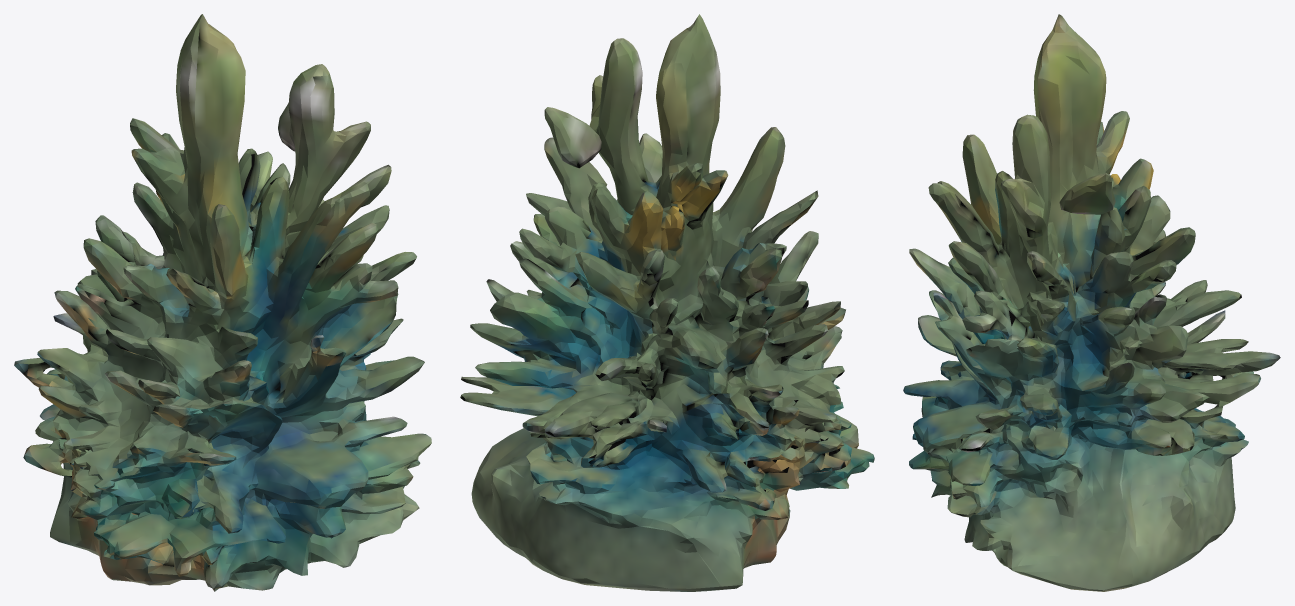
File: Plant12.glb
3 renders of one model, left to right at view 1: azimuth 30°, elevation 25°; view 2: azimuth 150°, elevation 25°; view 3: azimuth 270°, elevation 25°, orthographic. The views are drawn at different scales.
Parts seen in each view (by area): view 1: model.004_LOD0; view 2: model.004_LOD0; view 3: model.004_LOD0.
Part boxes in pixels (x1,y1,x2,y2): model.004_LOD0: [14, 14, 431, 591]; model.004_LOD0: [460, 14, 874, 591]; model.004_LOD0: [903, 14, 1280, 591].
Size of what is drawn, in the model's own units: 0.2878 by 0.4382 by 0.3005.
Materials: 1 (1 with a texture image).
